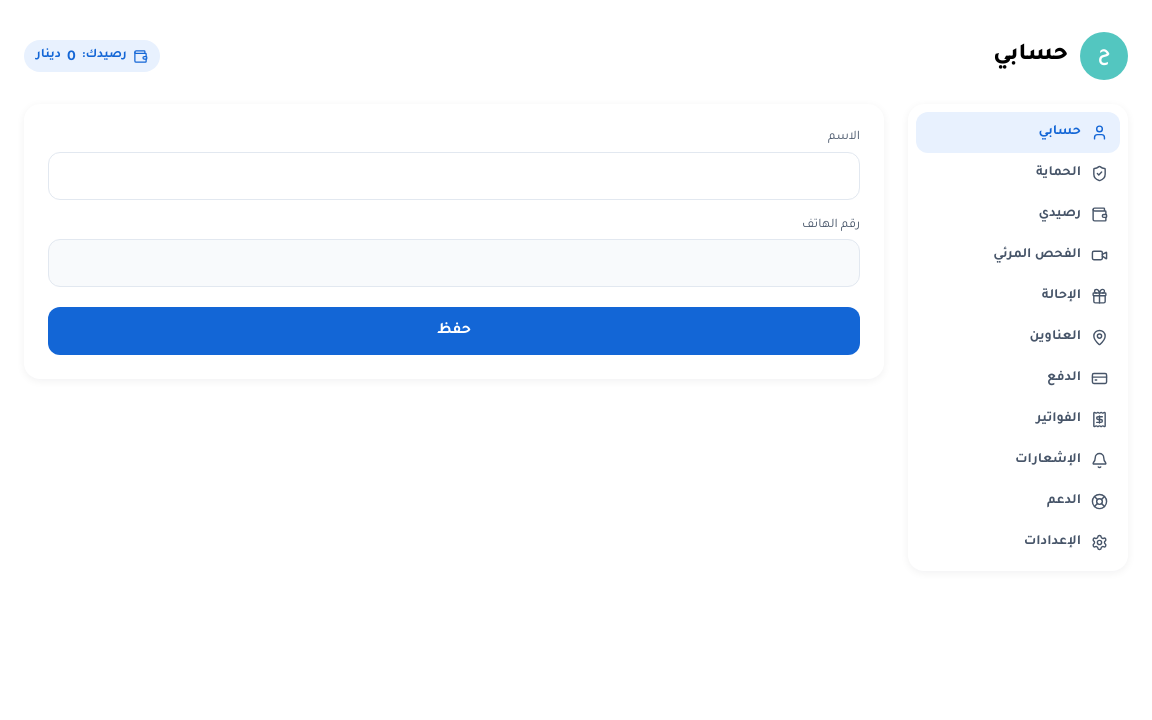
Test: Account › receipts tab › lists only completed bookings
Click the tab "الفواتير" at coordinates (1018, 420), box [916,399,1120,440]
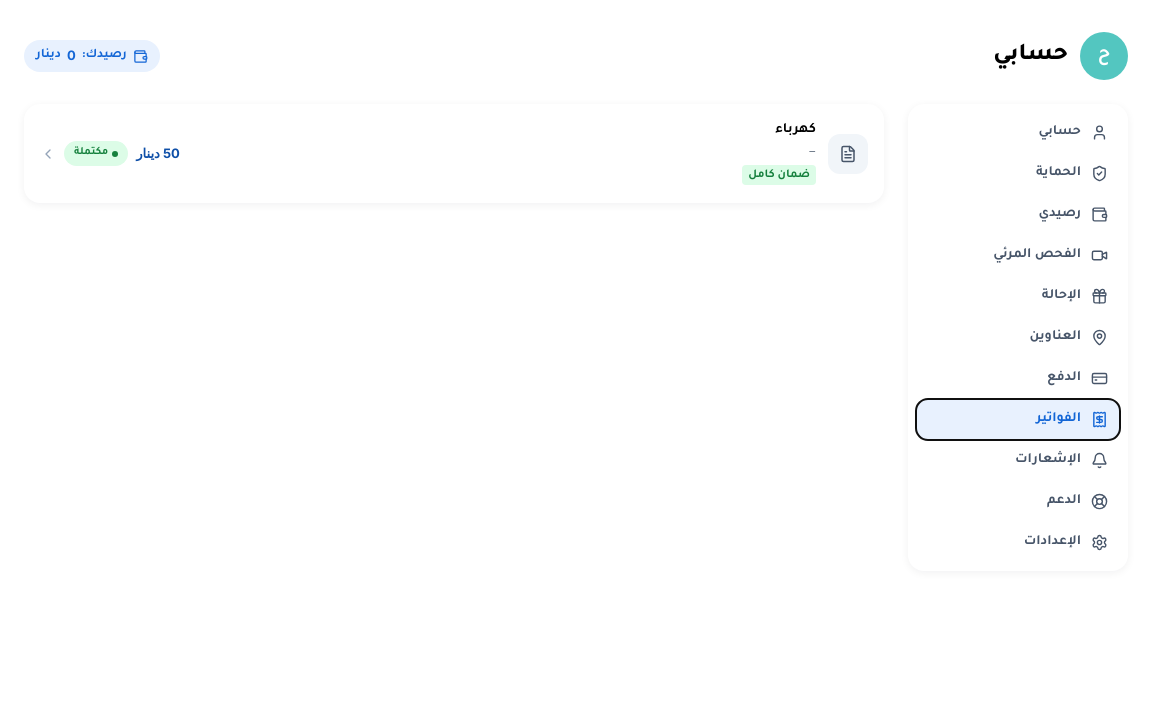
Check: the text "كهرباء" is shown, box [775,123,816,137]
